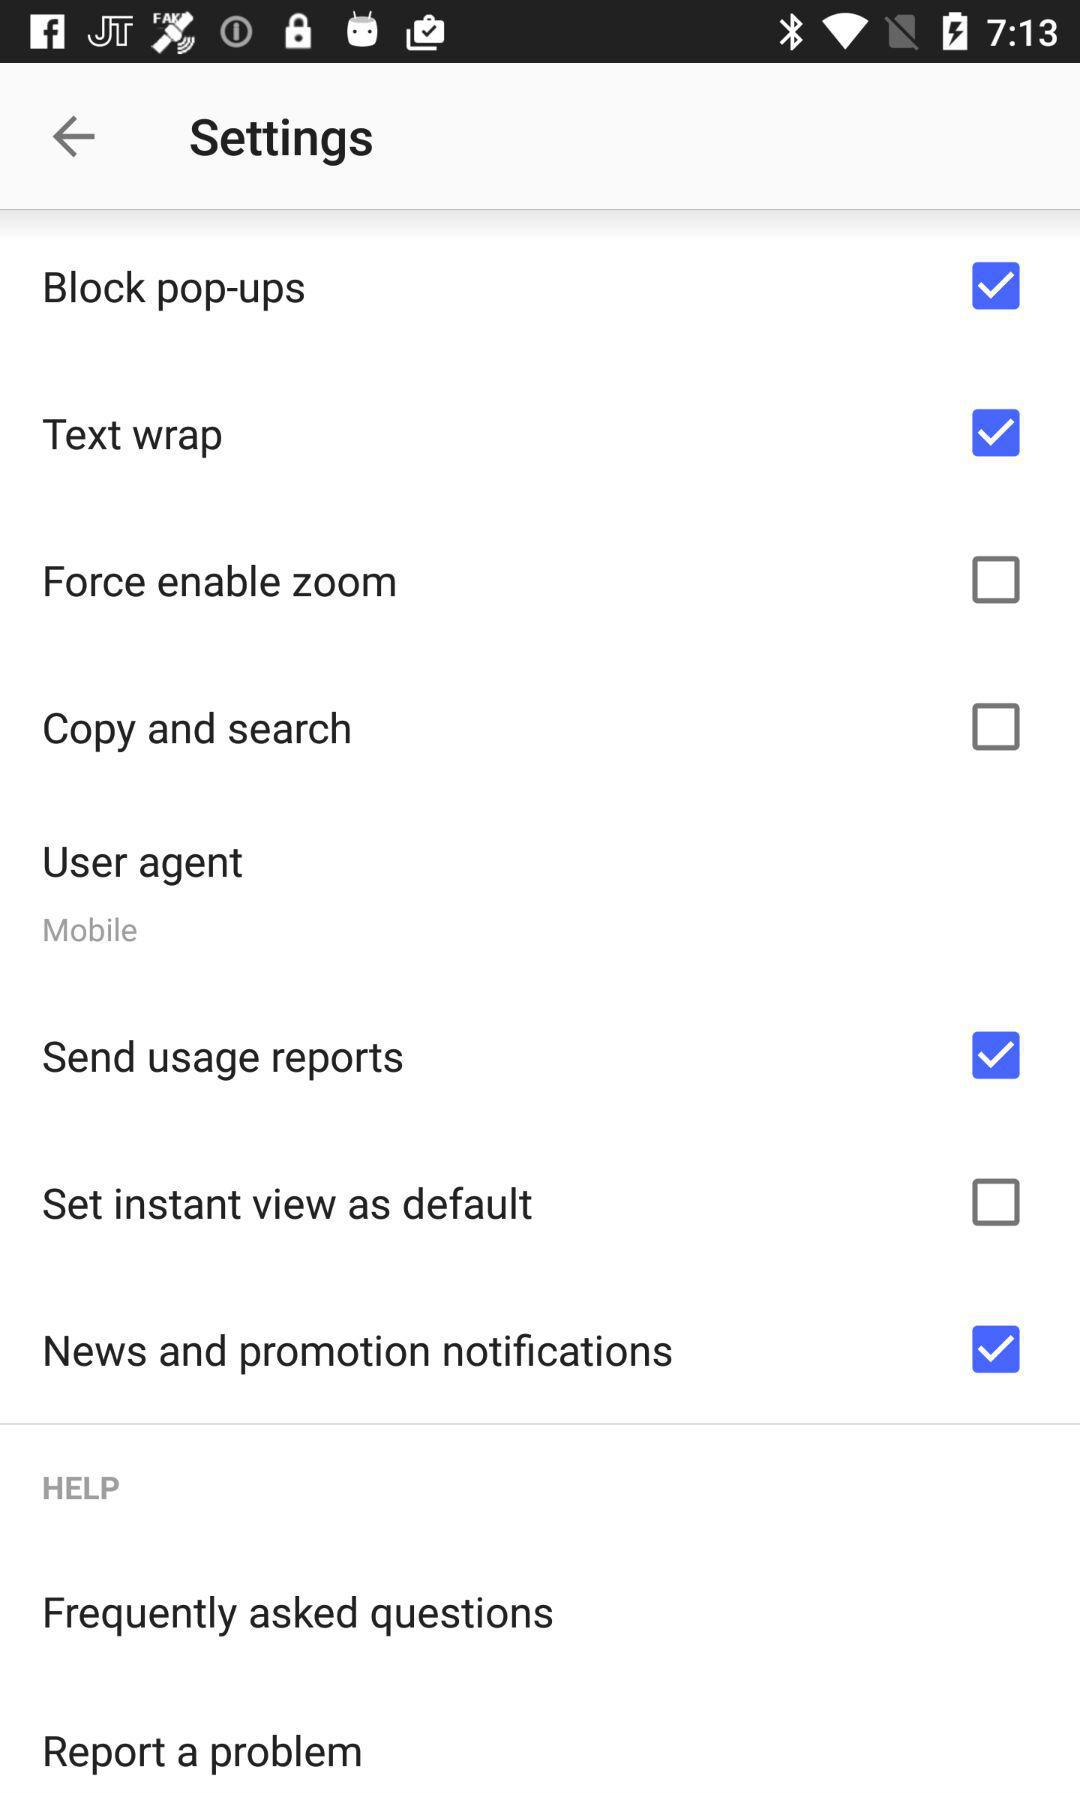CheckedTextView: (44, 409, 1021, 460), (45, 261, 1021, 313), (45, 1325, 1021, 1376), (44, 704, 1021, 753), (44, 1032, 1021, 1082), (44, 1178, 1021, 1228), (45, 556, 1021, 605)
Icon: (53, 115, 97, 160)
Text: (45, 1331, 673, 1376), (44, 1595, 553, 1638), (44, 1185, 533, 1221), (44, 1039, 404, 1082), (44, 1732, 363, 1776), (44, 711, 352, 753), (45, 564, 397, 598), (45, 270, 306, 313), (190, 117, 374, 169), (44, 846, 243, 888), (44, 419, 223, 460), (44, 916, 138, 944), (44, 1476, 120, 1501)
UpperTaskBar: (1, 1, 1080, 64)
